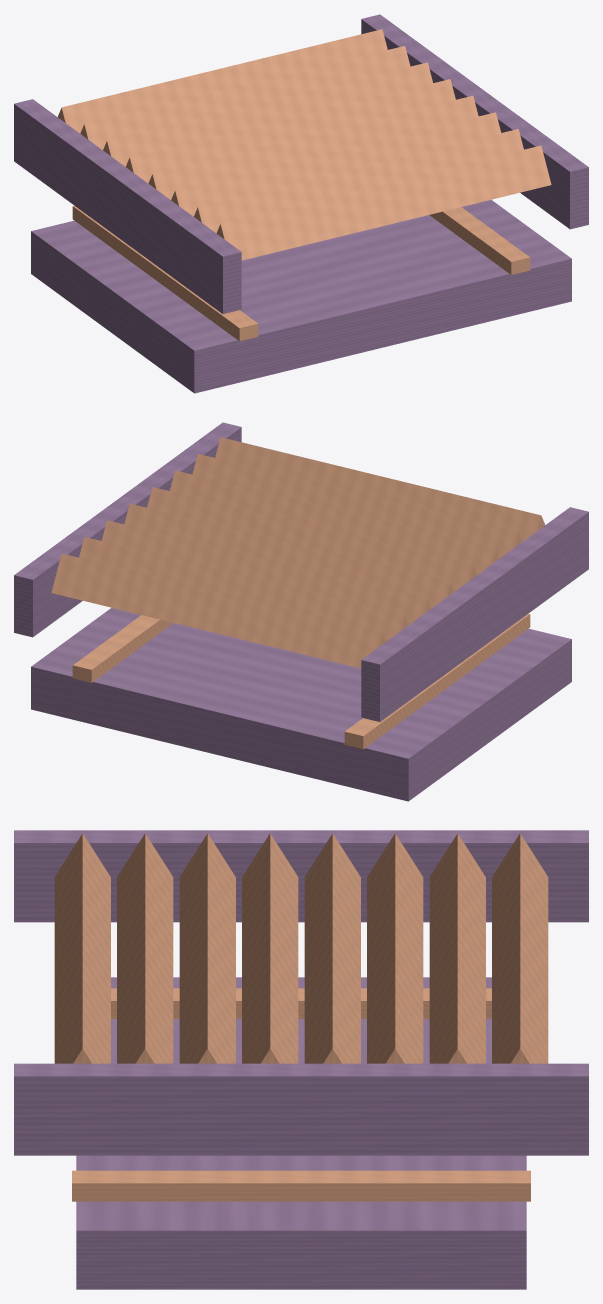
The model's file is atlas100-s086-a02.lod2.glb.
The picture shows the model from 3 angles, top to bottom: view 1: azimuth 30°, elevation 25°; view 2: azimuth 150°, elevation 25°; view 3: azimuth 270°, elevation 25°; orthographic projection. The views are drawn at different scales.
Visible parts, largest first — view 1: atlas100-s086-a02:part-000, atlas100-s086-a02:part-011, atlas100-s086-a02:part-010, atlas100-s086-a02:part-008, atlas100-s086-a02:part-004, atlas100-s086-a02:part-003, atlas100-s086-a02:part-005, atlas100-s086-a02:part-007, atlas100-s086-a02:part-009, atlas100-s086-a02:part-006, atlas100-s086-a02:part-012, atlas100-s086-a02:part-001 (+1 smaller); view 2: atlas100-s086-a02:part-000, atlas100-s086-a02:part-011, atlas100-s086-a02:part-003, atlas100-s086-a02:part-005, atlas100-s086-a02:part-009, atlas100-s086-a02:part-006, atlas100-s086-a02:part-008, atlas100-s086-a02:part-010, atlas100-s086-a02:part-004, atlas100-s086-a02:part-007, atlas100-s086-a02:part-012, atlas100-s086-a02:part-001 (+1 smaller); view 3: atlas100-s086-a02:part-012, atlas100-s086-a02:part-000, atlas100-s086-a02:part-011, atlas100-s086-a02:part-002, atlas100-s086-a02:part-003, atlas100-s086-a02:part-004, atlas100-s086-a02:part-005, atlas100-s086-a02:part-006, atlas100-s086-a02:part-007, atlas100-s086-a02:part-008, atlas100-s086-a02:part-009, atlas100-s086-a02:part-010 (+1 smaller).
Boxes of the visible parts, x1,y1,x2,y2 form: atlas100-s086-a02:part-000: (31,199,571,393); atlas100-s086-a02:part-011: (14,99,241,313); atlas100-s086-a02:part-010: (216,145,551,260); atlas100-s086-a02:part-008: (171,112,501,216); atlas100-s086-a02:part-004: (80,46,410,149); atlas100-s086-a02:part-003: (58,29,387,133); atlas100-s086-a02:part-005: (103,62,432,166); atlas100-s086-a02:part-007: (148,95,478,199); atlas100-s086-a02:part-009: (194,129,523,233); atlas100-s086-a02:part-006: (126,79,455,183); atlas100-s086-a02:part-012: (361,14,588,229); atlas100-s086-a02:part-001: (72,206,258,341); atlas100-s086-a02:part-000: (31,607,571,801); atlas100-s086-a02:part-011: (361,507,588,721); atlas100-s086-a02:part-003: (51,553,386,668); atlas100-s086-a02:part-005: (101,520,431,624); atlas100-s086-a02:part-009: (192,454,522,557); atlas100-s086-a02:part-006: (124,503,454,607); atlas100-s086-a02:part-008: (170,470,499,574); atlas100-s086-a02:part-010: (215,437,544,541); atlas100-s086-a02:part-004: (79,537,408,641); atlas100-s086-a02:part-007: (147,487,476,591); atlas100-s086-a02:part-012: (14,422,241,637); atlas100-s086-a02:part-001: (344,614,530,749); atlas100-s086-a02:part-012: (14,1063,588,1155); atlas100-s086-a02:part-000: (76,977,526,1289); atlas100-s086-a02:part-011: (14,830,588,922); atlas100-s086-a02:part-002: (72,1170,530,1201); atlas100-s086-a02:part-003: (492,833,548,1063); atlas100-s086-a02:part-004: (429,833,485,1063); atlas100-s086-a02:part-005: (367,833,423,1063); atlas100-s086-a02:part-006: (304,833,360,1063); atlas100-s086-a02:part-007: (242,833,298,1063); atlas100-s086-a02:part-008: (179,833,235,1063); atlas100-s086-a02:part-009: (117,833,173,1063); atlas100-s086-a02:part-010: (54,833,110,1063).
Bounding box in the file's own units: 2.4 × 0.98 × 2.3.
2 materials, 2 textured.
